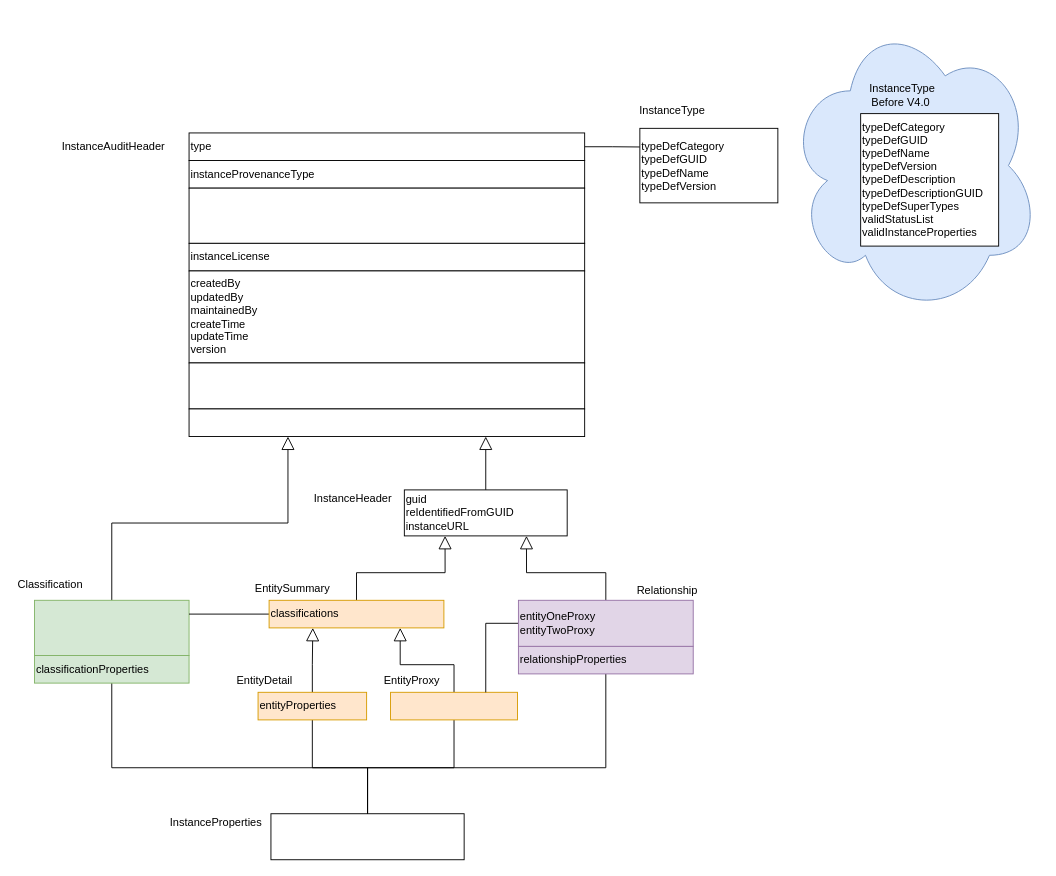
Some shapes in this 1056 by 876 pixel diagram are drawn without their labels. Here are the shapes that lost their labels. From the top down, the centre of each, then its label:
At pixel 386 215: "metadataCollectionId metadataCollectionName replicatedBy".
At pixel 386 385: "currentStatus statusOnDelete".
At pixel 386 422: "mappingProperties".
At pixel 111 627: "classificationName classificationOrigin classificationOriginGUID".
At pixel 454 705: "uniqueProperties".
At pixel 367 836: "effectiveFrom effectiveTo instanceProperties".
